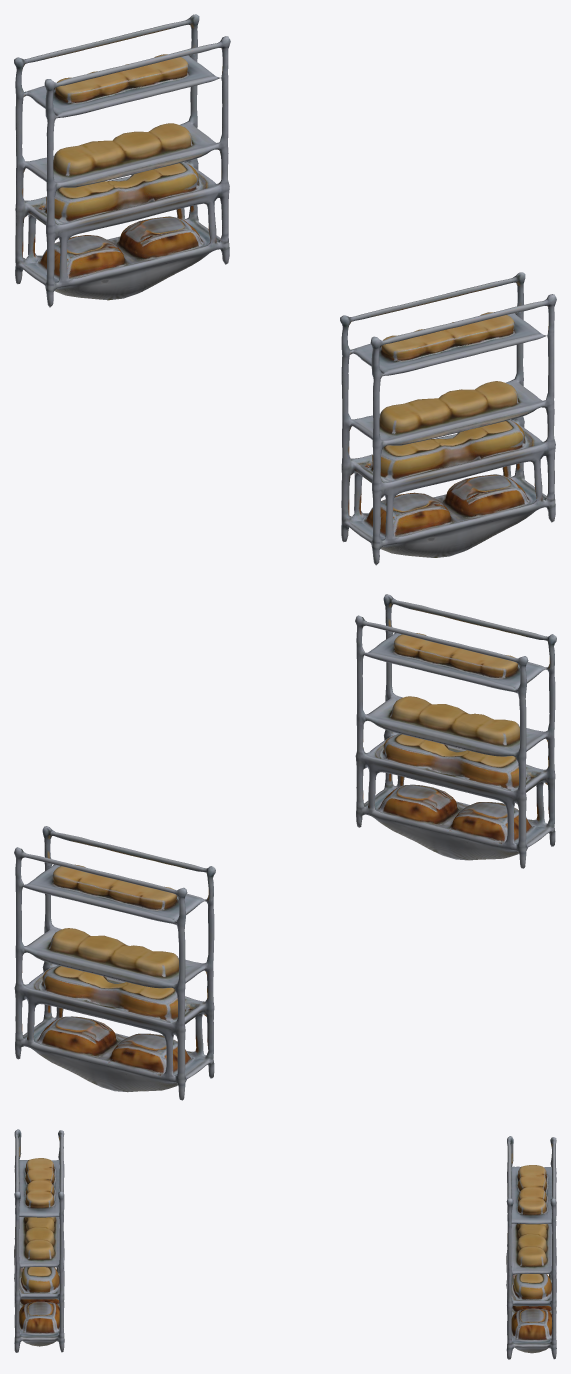
File: Repisa4.obj
The picture shows the model from 3 angles, top to bottom: view 1: azimuth 30°, elevation 25°; view 2: azimuth 150°, elevation 25°; view 3: azimuth 270°, elevation 25°; orthographic projection. The views are drawn at different scales.
Visible parts, largest first — view 1: Repisa4; view 2: Repisa4; view 3: Repisa4.
Part boxes in pixels (x1,y1,x2,y2): Repisa4: (14,14,556,565); Repisa4: (14,594,556,1100); Repisa4: (14,1129,556,1359).
Size of the model in its own units: 9.08 by 10.58 by 29.34.
Materials: 1 (1 with a texture image).
